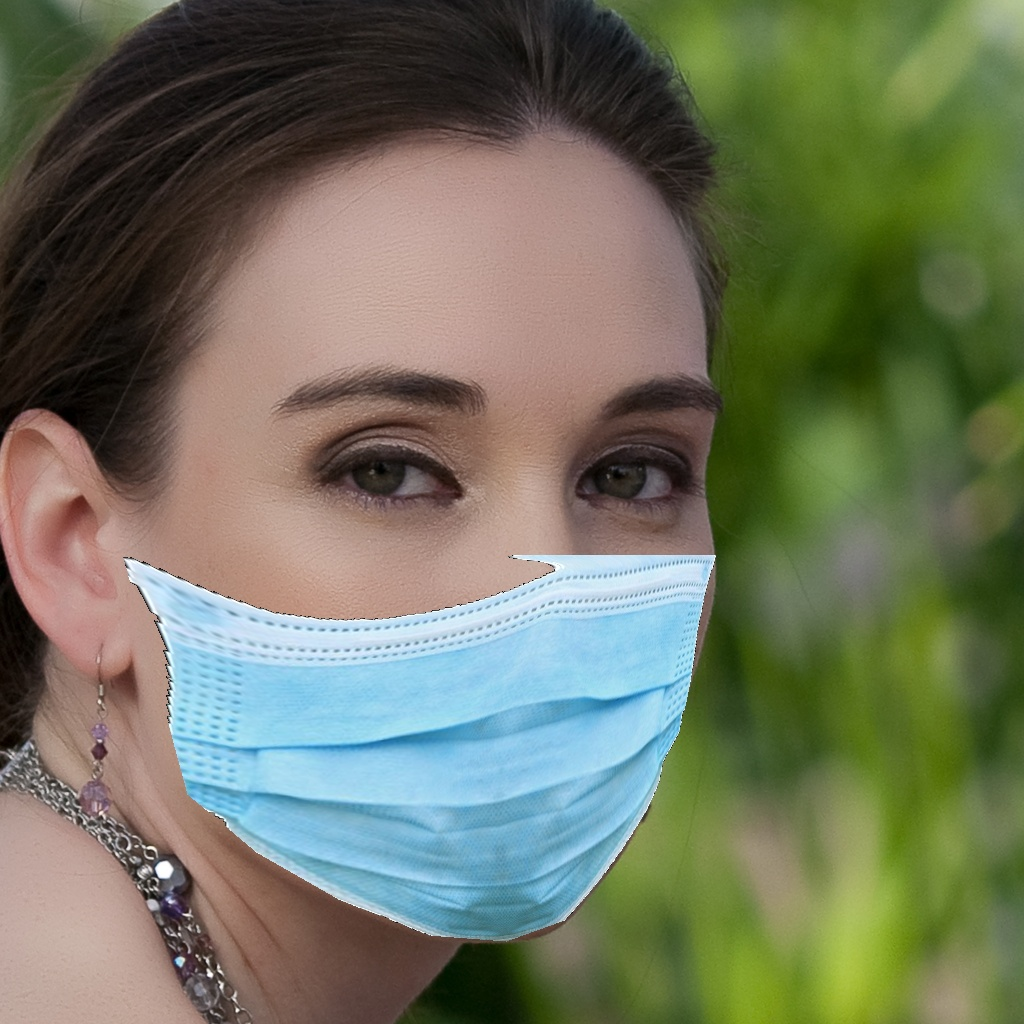Mask: (123, 343, 730, 943)
